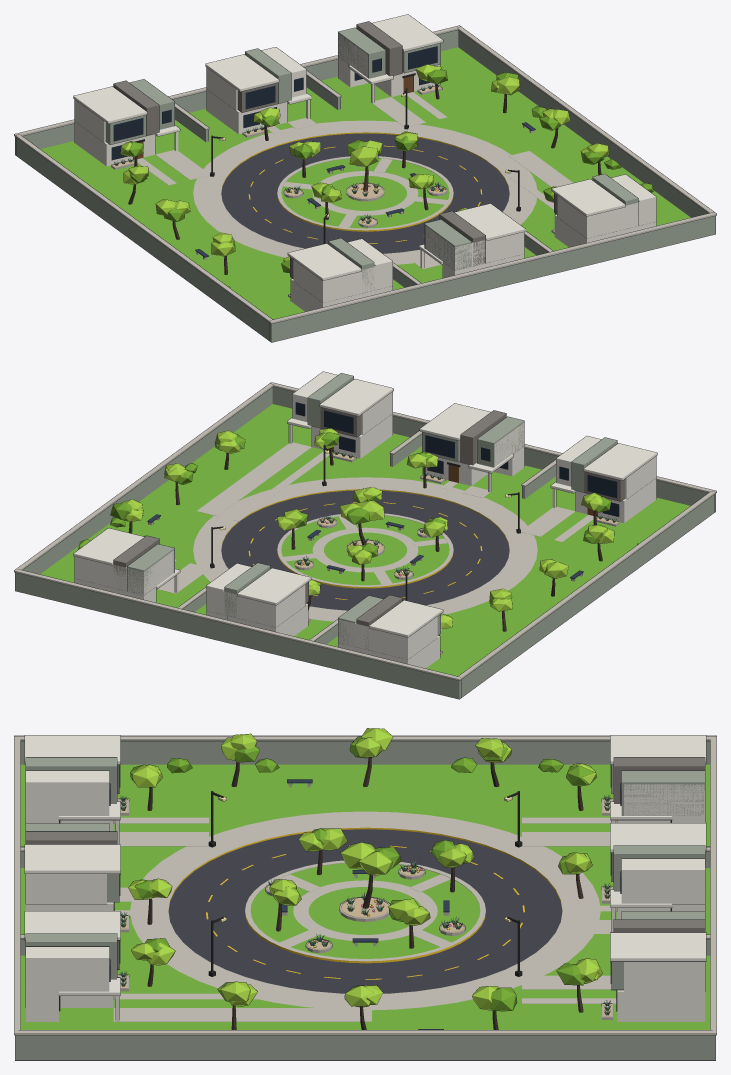
The model's file is Residencial_Restaurado.fbx.
3 renders of one model, top to bottom at view 1: azimuth 30°, elevation 25°; view 2: azimuth 150°, elevation 25°; view 3: azimuth 270°, elevation 25°, orthographic. The views are drawn at different scales.
Visible parts, largest first — view 1: Restaurado_Edificios, Restaurado_Suelo, Restaurado_Decoracion; view 2: Restaurado_Edificios, Restaurado_Suelo, Restaurado_Decoracion; view 3: Restaurado_Suelo, Restaurado_Edificios, Restaurado_Decoracion.
Boxes of the visible parts, bbox=[...] form: Restaurado_Edificios: bbox=[14, 14, 716, 342]; Restaurado_Suelo: bbox=[40, 47, 690, 319]; Restaurado_Decoracion: bbox=[111, 64, 653, 297]; Restaurado_Edificios: bbox=[14, 371, 716, 699]; Restaurado_Suelo: bbox=[40, 404, 689, 676]; Restaurado_Decoracion: bbox=[78, 428, 638, 654]; Restaurado_Suelo: bbox=[20, 764, 710, 1029]; Restaurado_Edificios: bbox=[14, 735, 716, 1060]; Restaurado_Decoracion: bbox=[118, 728, 612, 1029].
Size of the model in its own units: 64.22 by 7.29 by 64.22.
Materials: 2 (1 with a texture image).
